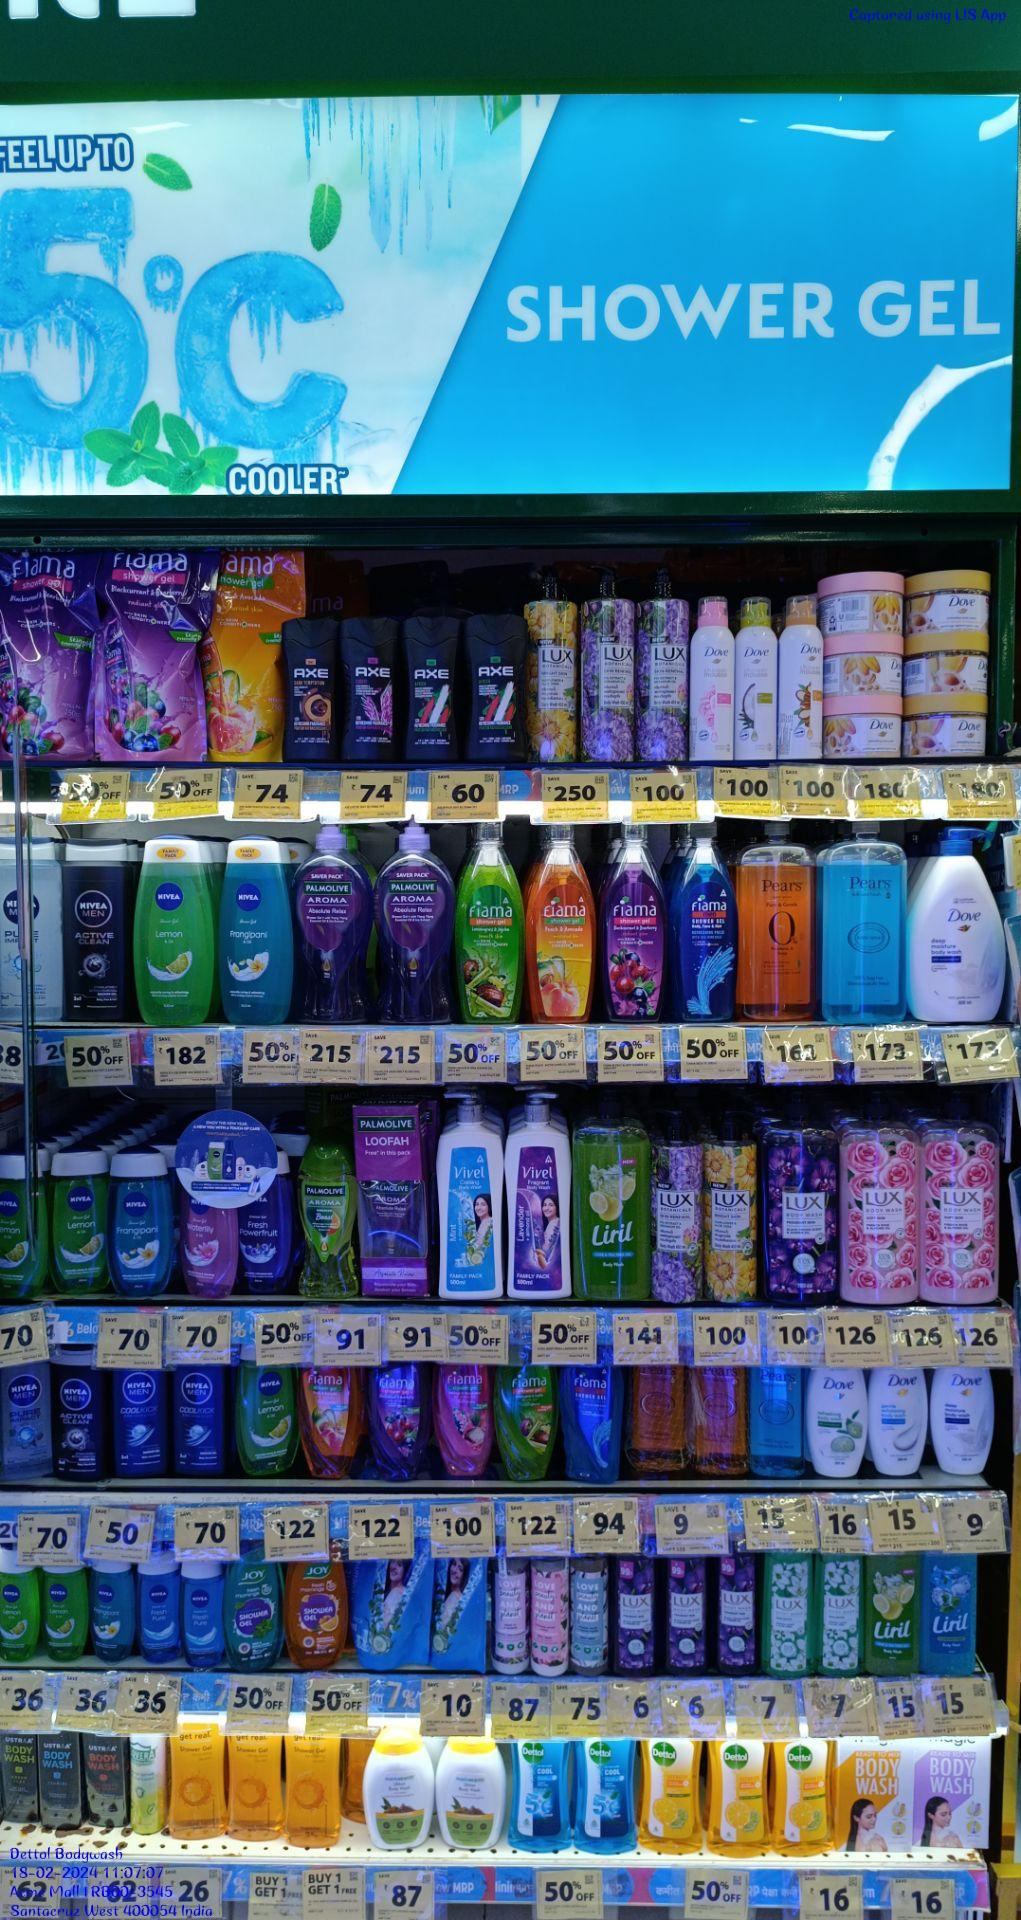Dettol_Bodywash_Cool: (509, 1738, 573, 1854), (579, 1738, 632, 1855)
Dettol_Bodywash_Refresh: (639, 1737, 705, 1854), (772, 1740, 834, 1859), (707, 1736, 763, 1857)
Dove_Deep_Moisture_Body_Wash_250ML: (933, 1365, 994, 1472)
Dove_Gentle_Exfoliating_Body_Wash_250ML: (872, 1363, 930, 1476)
Dove_Refreshing_Body_Wash_250ML: (809, 1365, 870, 1479)
Fiama_Shower_Gel_Lemongrass_and_Jojoba_250ML: (502, 1363, 559, 1481)
Fiama_Shower_Gel_Patchouli_and_Macadamia_250ML: (433, 1363, 500, 1478)
Fiama_Shower_Gel_Peach_and_Avocado_250ML: (300, 1365, 361, 1478)
Get_Real_Shower_Gel_Moisturising_Glycerin_300ML: (169, 1724, 227, 1841), (288, 1731, 339, 1851), (232, 1732, 283, 1843)
Joy_Shower_Gel_Mandarin_and_Lemongrass_250ML: (288, 1563, 349, 1667)
Joy_Shower_Gel_Mint_and_Eucalyptus_250ML: (229, 1556, 283, 1672)
Liril_Cooling_Mint_Body_Wash_250ML: (919, 1553, 978, 1675)
Liril_Lime_and_Tea_Tree_Oil_Body_Wash_250ML: (867, 1557, 917, 1676)
Lux_Black_Orchid_Scent_and_Juniper_Oil_Body_Wash_245ML: (709, 1558, 757, 1675), (612, 1556, 654, 1676), (660, 1558, 705, 1671)
Lux_Body_Wash_Skin_Detox_Freesia_Scent_and_Alove_Vera_245ML: (762, 1549, 815, 1680), (819, 1553, 862, 1675)
Nivea_Shower_Gel_Frangipani_and_Oil_250ML: (218, 838, 292, 1021), (110, 1147, 175, 1294)
Nivea_Shower_Gel_Lemon_and_Oil_250ML: (132, 837, 211, 1027), (50, 1147, 105, 1298), (234, 1364, 297, 1476), (0, 1150, 46, 1300)
Nivea_Shower_Gel_Waterlily_and_Oil_250ML: (180, 1199, 235, 1303)
Palmolive_Aroma_Morning_Tonic_Shower_Gel_250ML: (295, 1143, 359, 1299)
Pears_Pure_Glycerin_and_Mint_Extracts_Body_Wash_250ML: (751, 1365, 806, 1479)
